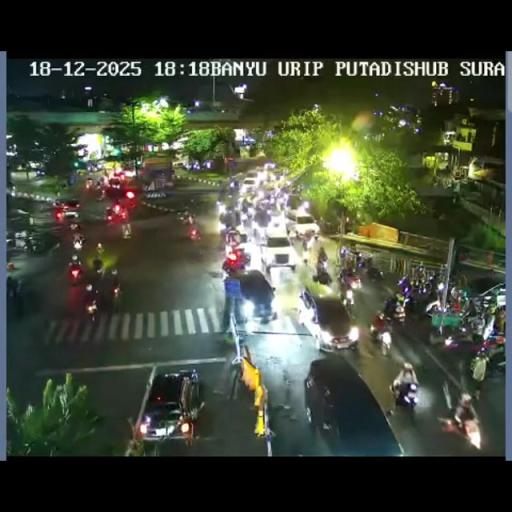Car: (302, 354, 402, 454), (138, 370, 204, 445), (296, 284, 358, 351), (262, 232, 298, 274), (286, 211, 320, 241), (475, 282, 505, 310), (52, 198, 82, 220), (282, 192, 306, 214), (262, 165, 286, 182), (242, 176, 260, 193), (120, 164, 136, 178), (108, 176, 122, 190)
Motorcycle: (226, 180, 293, 242), (67, 250, 122, 320), (437, 392, 481, 447), (238, 269, 276, 320), (431, 314, 478, 348), (400, 306, 439, 346), (478, 341, 506, 378), (405, 279, 437, 310), (393, 377, 420, 411), (369, 312, 390, 350), (109, 204, 132, 238), (313, 251, 331, 285), (221, 226, 245, 248), (382, 295, 402, 319), (447, 287, 467, 311), (110, 282, 124, 312), (85, 294, 99, 323), (68, 262, 84, 285), (365, 264, 384, 283), (222, 254, 240, 274), (321, 218, 341, 236), (252, 220, 266, 242), (345, 272, 362, 290), (425, 300, 443, 317), (71, 230, 85, 250), (25, 236, 40, 254), (397, 275, 411, 294), (6, 275, 16, 301), (240, 210, 252, 230), (92, 258, 103, 278), (188, 225, 200, 241), (232, 208, 242, 227), (183, 210, 195, 225), (338, 246, 348, 264), (69, 220, 82, 233), (216, 200, 226, 214), (95, 242, 104, 257), (95, 190, 106, 202), (301, 236, 309, 252), (357, 256, 366, 270), (226, 190, 234, 202), (228, 179, 238, 188), (70, 253, 78, 263), (85, 178, 91, 190), (96, 180, 102, 192), (106, 212, 112, 222), (313, 232, 319, 241)
